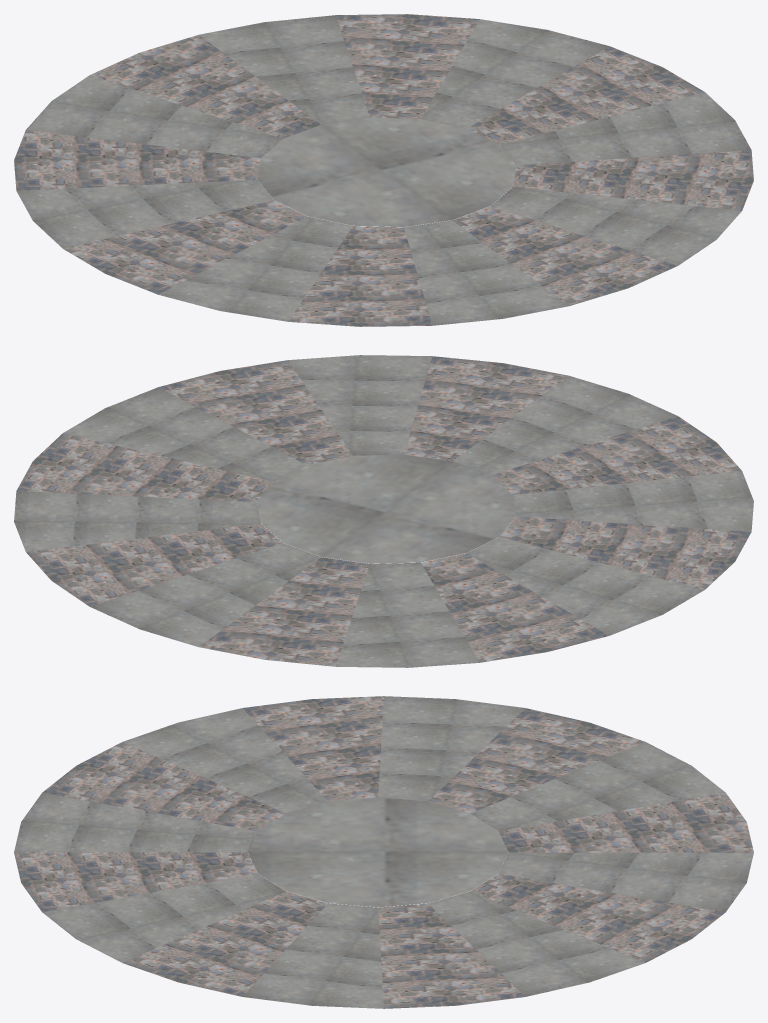
Rendered from Ground06_PisoMastil.fbx.
3 renders of one model, top to bottom at view 1: azimuth 30°, elevation 25°; view 2: azimuth 150°, elevation 25°; view 3: azimuth 270°, elevation 25°, orthographic.
Visible parts, largest first — view 1: Circle; view 2: Circle; view 3: Circle.
Boxes of the visible parts, x1,y1,x2,y2 form: Circle: (14, 14, 753, 326); Circle: (14, 355, 753, 667); Circle: (14, 696, 753, 1008).
Bounding box in the file's own units: 32.67 × 0.00798 × 32.67.
